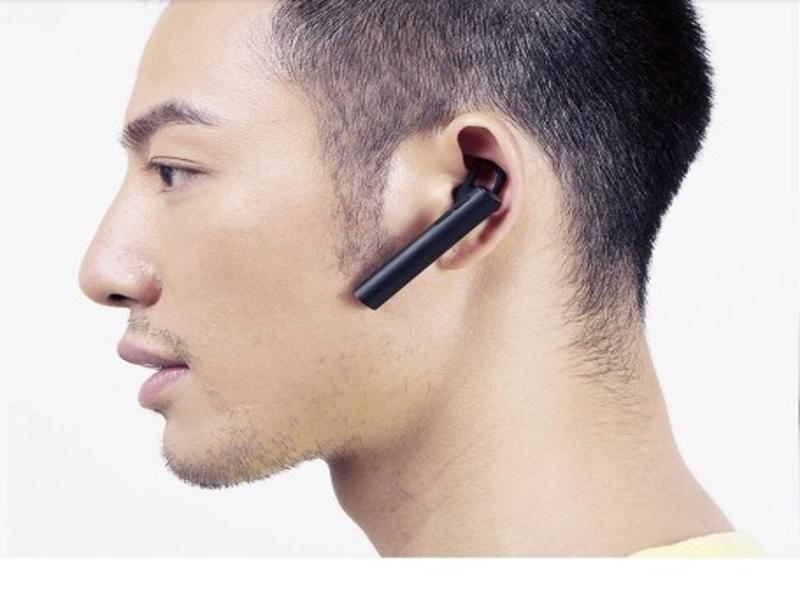headphone: (351, 160, 506, 311)
